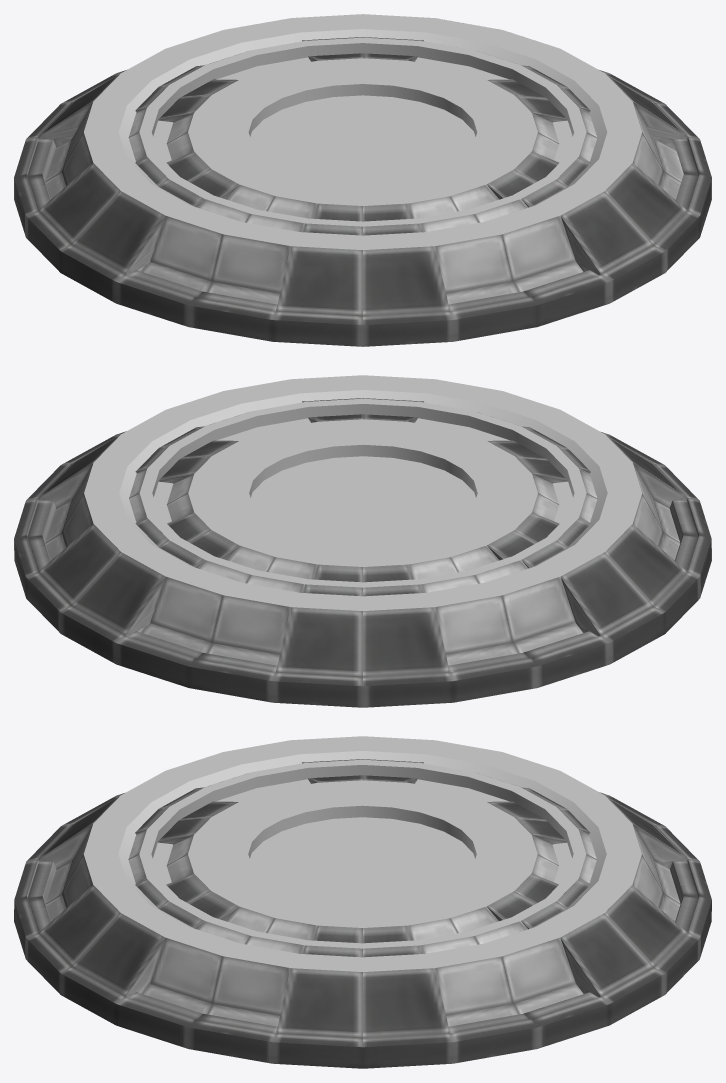
The model's file is MOL_Adapter_1875_15.dae.
3 renders of one model, top to bottom at view 1: azimuth 30°, elevation 25°; view 2: azimuth 150°, elevation 25°; view 3: azimuth 270°, elevation 25°, orthographic.
Visible parts, largest first — view 1: Adapter_1875_15, polySurface59, polySurface59_ncl1_2, Adapter_1875_9375, polySurface57, polySurface59_ncl1_1, Adapter_1875_125, polySurface57_ncl1_2; view 2: Adapter_1875_15, polySurface59, polySurface59_ncl1_2, Adapter_1875_9375, polySurface57, polySurface59_ncl1_1, Adapter_1875_125, polySurface57_ncl1_2; view 3: Adapter_1875_15, polySurface59, polySurface59_ncl1_2, Adapter_1875_9375, polySurface57, polySurface59_ncl1_1, Adapter_1875_125, polySurface57_ncl1_2.
Boxes of the visible parts, box(x1,y1,x2,y2) form: Adapter_1875_15: box(14, 17, 711, 346); polySurface59: box(84, 14, 641, 249); polySurface59_ncl1_2: box(188, 58, 537, 205); Adapter_1875_9375: box(27, 53, 698, 311); polySurface57: box(153, 57, 572, 180); polySurface59_ncl1_1: box(139, 37, 586, 226); Adapter_1875_125: box(38, 37, 687, 273); polySurface57_ncl1_2: box(250, 96, 474, 180); Adapter_1875_15: box(14, 431, 711, 707); polySurface59: box(84, 375, 642, 610); polySurface59_ncl1_2: box(188, 419, 537, 566); Adapter_1875_9375: box(27, 414, 698, 672); polySurface57: box(153, 418, 572, 541); polySurface59_ncl1_1: box(139, 398, 586, 587); Adapter_1875_125: box(39, 398, 597, 635); polySurface57_ncl1_2: box(274, 457, 475, 541); Adapter_1875_15: box(14, 792, 711, 1068); polySurface59: box(83, 736, 641, 971); polySurface59_ncl1_2: box(188, 780, 537, 927); Adapter_1875_9375: box(27, 775, 698, 1033); polySurface57: box(153, 779, 572, 902); polySurface59_ncl1_1: box(139, 759, 586, 948); Adapter_1875_125: box(39, 759, 625, 997); polySurface57_ncl1_2: box(252, 817, 474, 902).
Size of the model in its own units: 1.88 by 0.1992 by 1.88.
